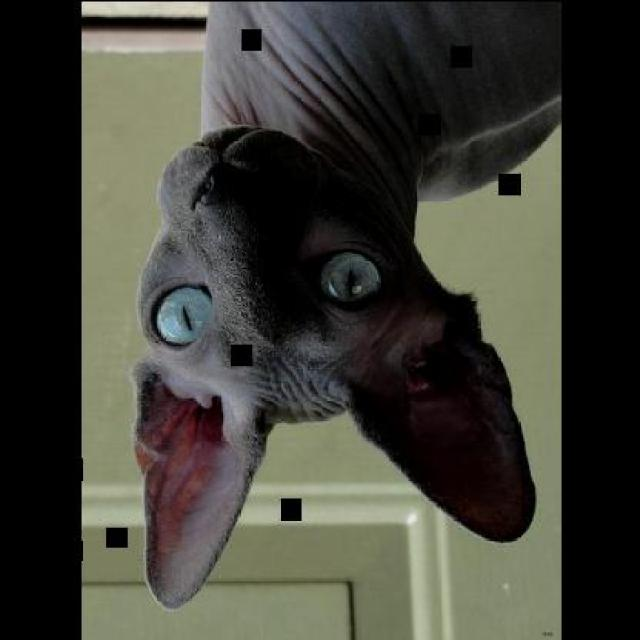unauthorized: (128, 0, 560, 611)
